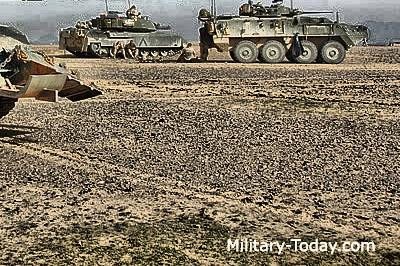tanks: (201, 1, 368, 65), (1, 28, 101, 119), (60, 12, 189, 58), (1, 1, 55, 2)
